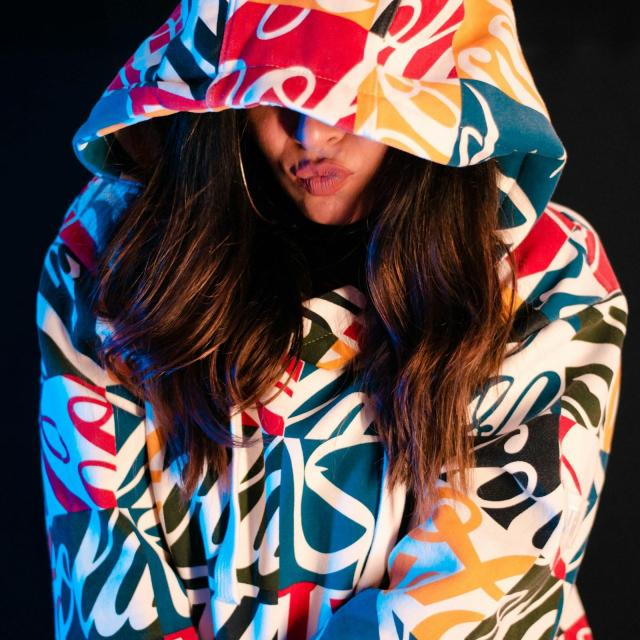4_capucha: (70, 0, 569, 265)
